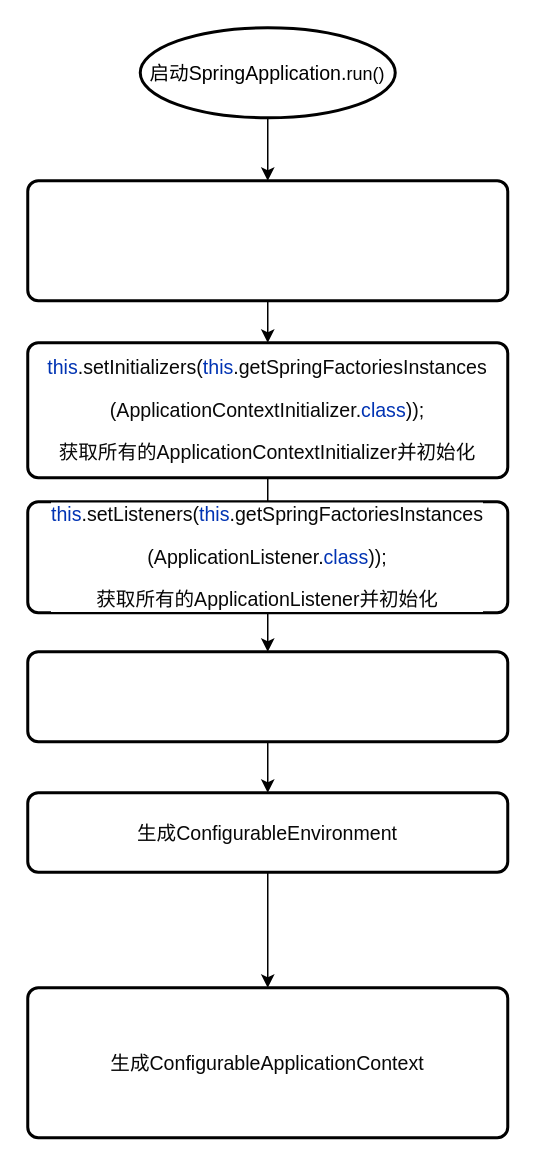
Some shapes in this 534 by 1164 pixel diagram are drawn without their labels. The shapes that lost their labels are listed below. From the top down, each one's centre as x and y in pixels, then its label:
At (267,240): "SpringApplication(ResourceLoader resourceLoader, Class<?>... primarySources)".
At (267,696): "启动SpringApplicationRunListeners .starting()".
